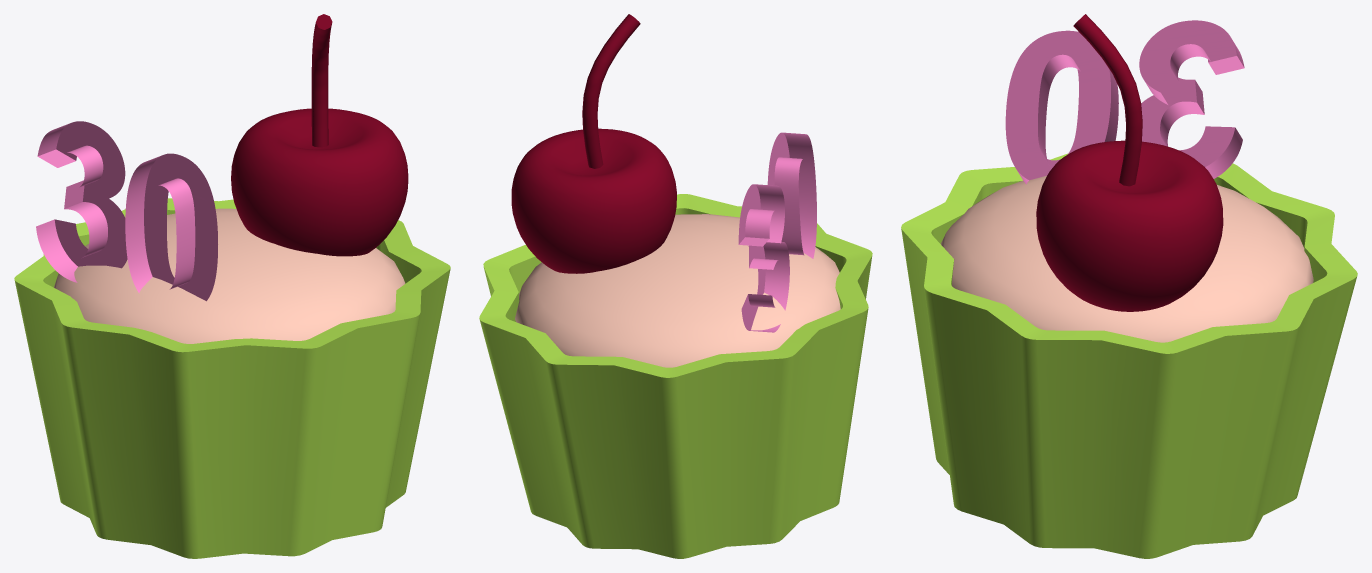
The model's file is cake14.glb.
3 renders of one model, left to right at view 1: azimuth 30°, elevation 25°; view 2: azimuth 150°, elevation 25°; view 3: azimuth 270°, elevation 25°, orthographic. The views are drawn at different scales.
Bounding box in the file's own units: 0.3102 × 0.384 × 0.3115.
